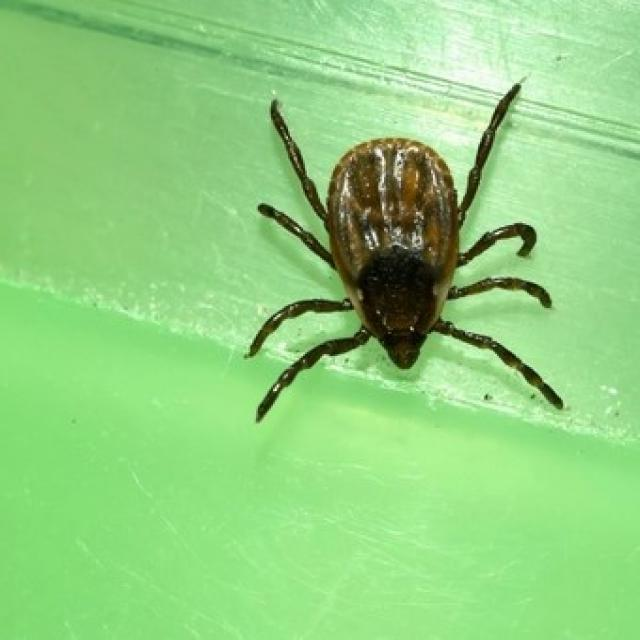Rhipicephalus Sanguineus-F: (247, 85, 565, 426)
